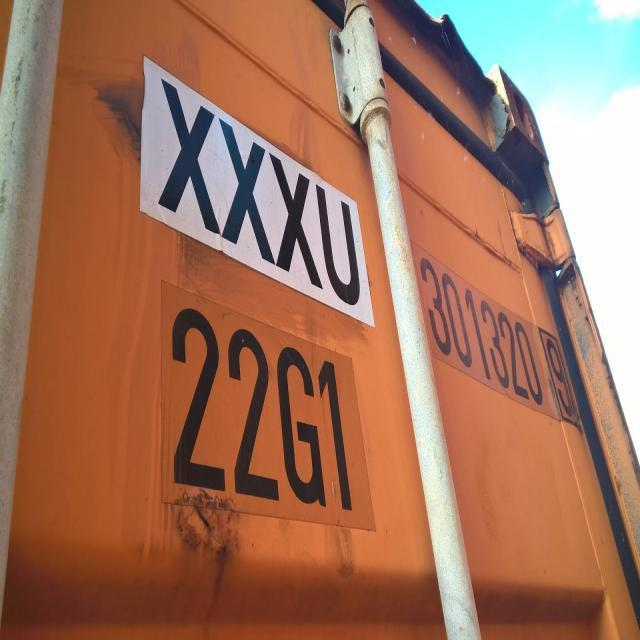container_number_h: (101, 29, 610, 582)
